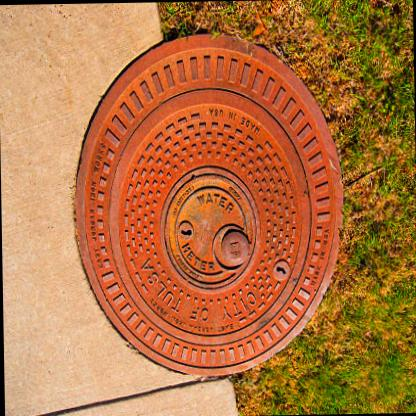manholes: (51, 0, 374, 397)
